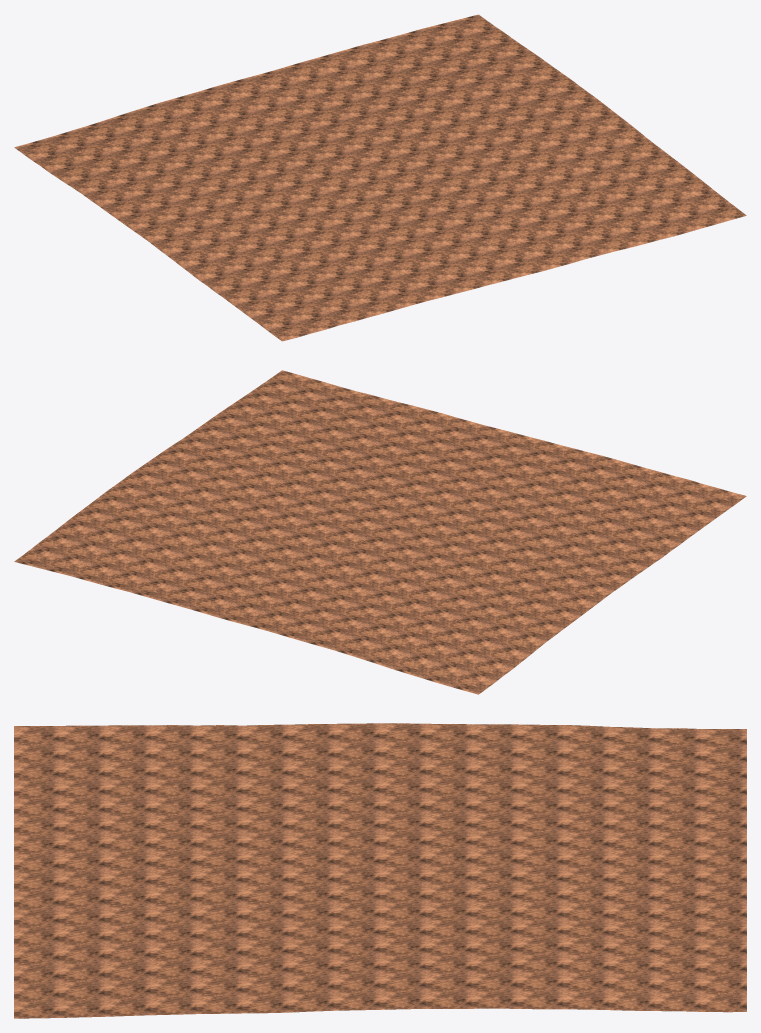
Rendered from terrain_08_10.dae.
The picture shows the model from 3 angles, top to bottom: view 1: azimuth 30°, elevation 25°; view 2: azimuth 150°, elevation 25°; view 3: azimuth 270°, elevation 25°; orthographic projection. The views are drawn at different scales.
Parts seen in each view (by area): view 1: terrain_08_10-node; view 2: terrain_08_10-node; view 3: terrain_08_10-node.
Boxes of the visible parts, x1=… form: terrain_08_10-node: x1=14, y1=14, x2=746, y2=341; terrain_08_10-node: x1=14, y1=370, x2=746, y2=694; terrain_08_10-node: x1=14, y1=723, x2=746, y2=1018.
Bounding box in the file's own units: 128 × 128 × 5.84.
1 material, 1 textured.
